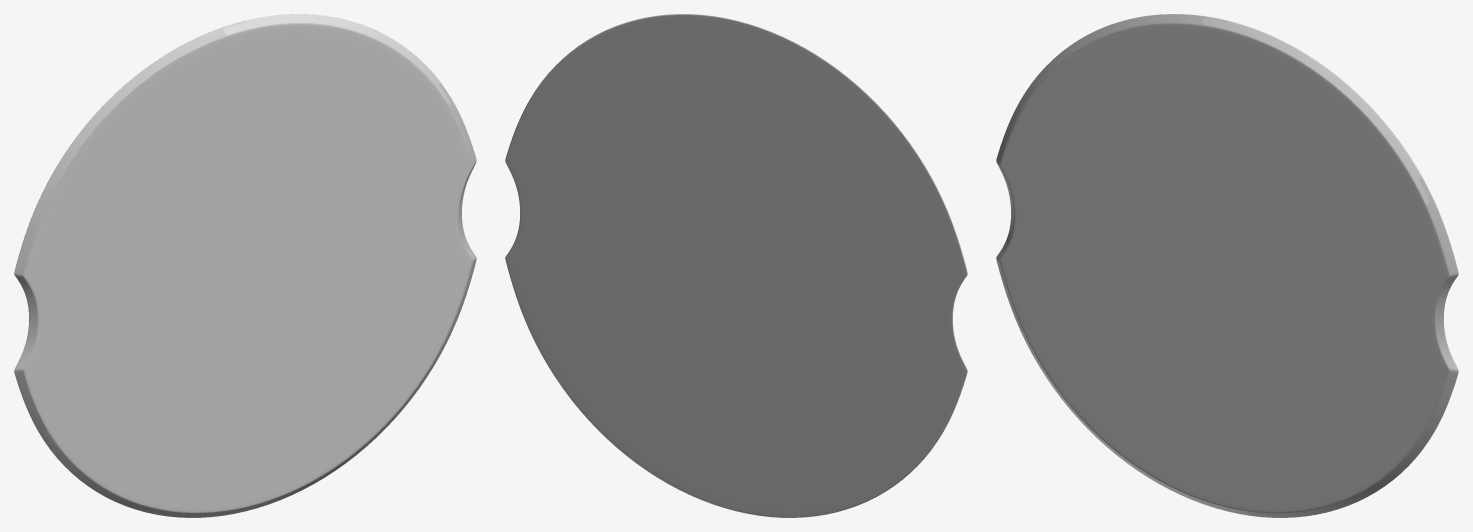
Rendered from Mirror_006.gltf.
3 renders of one model, left to right at view 1: azimuth 30°, elevation 25°; view 2: azimuth 150°, elevation 25°; view 3: azimuth 330°, elevation 25°, orthographic.
Parts seen in each view (by area): view 1: Mirror_006; view 2: Mirror_006; view 3: Mirror_006.
Part boxes in pixels (bbox=[...]): Mirror_006: bbox=[14, 14, 476, 517]; Mirror_006: bbox=[505, 14, 967, 517]; Mirror_006: bbox=[996, 14, 1458, 517].
Bounding box in the file's own units: 0.684 × 0.6936 × 0.00813.
1 material, 1 textured.
